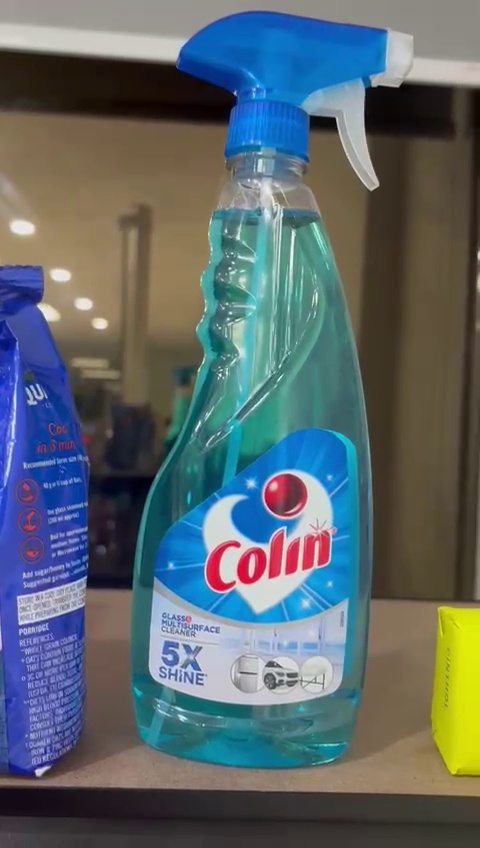Colin: (125, 16, 410, 770)
